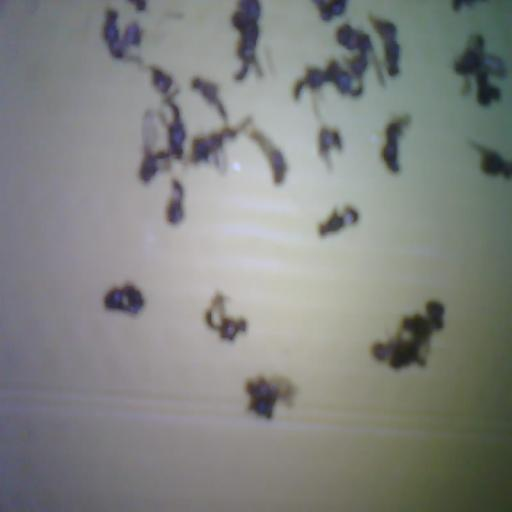Insects: (372, 301, 444, 368), (139, 94, 186, 182), (294, 59, 362, 116), (454, 35, 506, 105), (189, 117, 251, 169), (336, 24, 384, 85), (294, 60, 362, 98), (232, 0, 262, 80), (248, 128, 287, 184), (103, 10, 142, 64), (139, 111, 168, 182), (246, 377, 295, 418), (205, 293, 247, 340), (369, 15, 400, 76), (381, 115, 410, 172), (191, 77, 227, 122), (470, 141, 511, 178), (325, 60, 362, 96), (319, 206, 359, 236), (104, 284, 144, 314), (168, 101, 186, 158), (294, 68, 327, 98), (336, 24, 371, 52), (319, 127, 341, 169), (477, 71, 501, 105), (166, 180, 184, 224), (150, 66, 174, 96), (313, 0, 346, 21), (452, 0, 477, 11), (128, 0, 147, 11)
